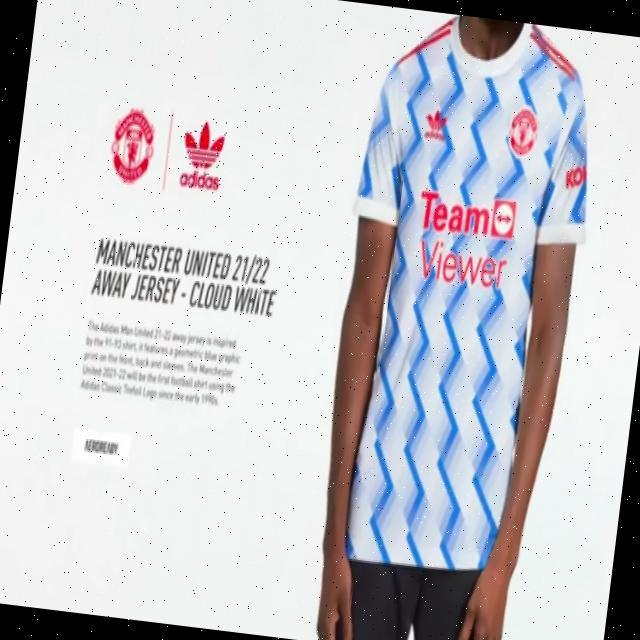Adidas: (174, 115, 229, 195)
TeamViewer: (412, 187, 518, 289)
